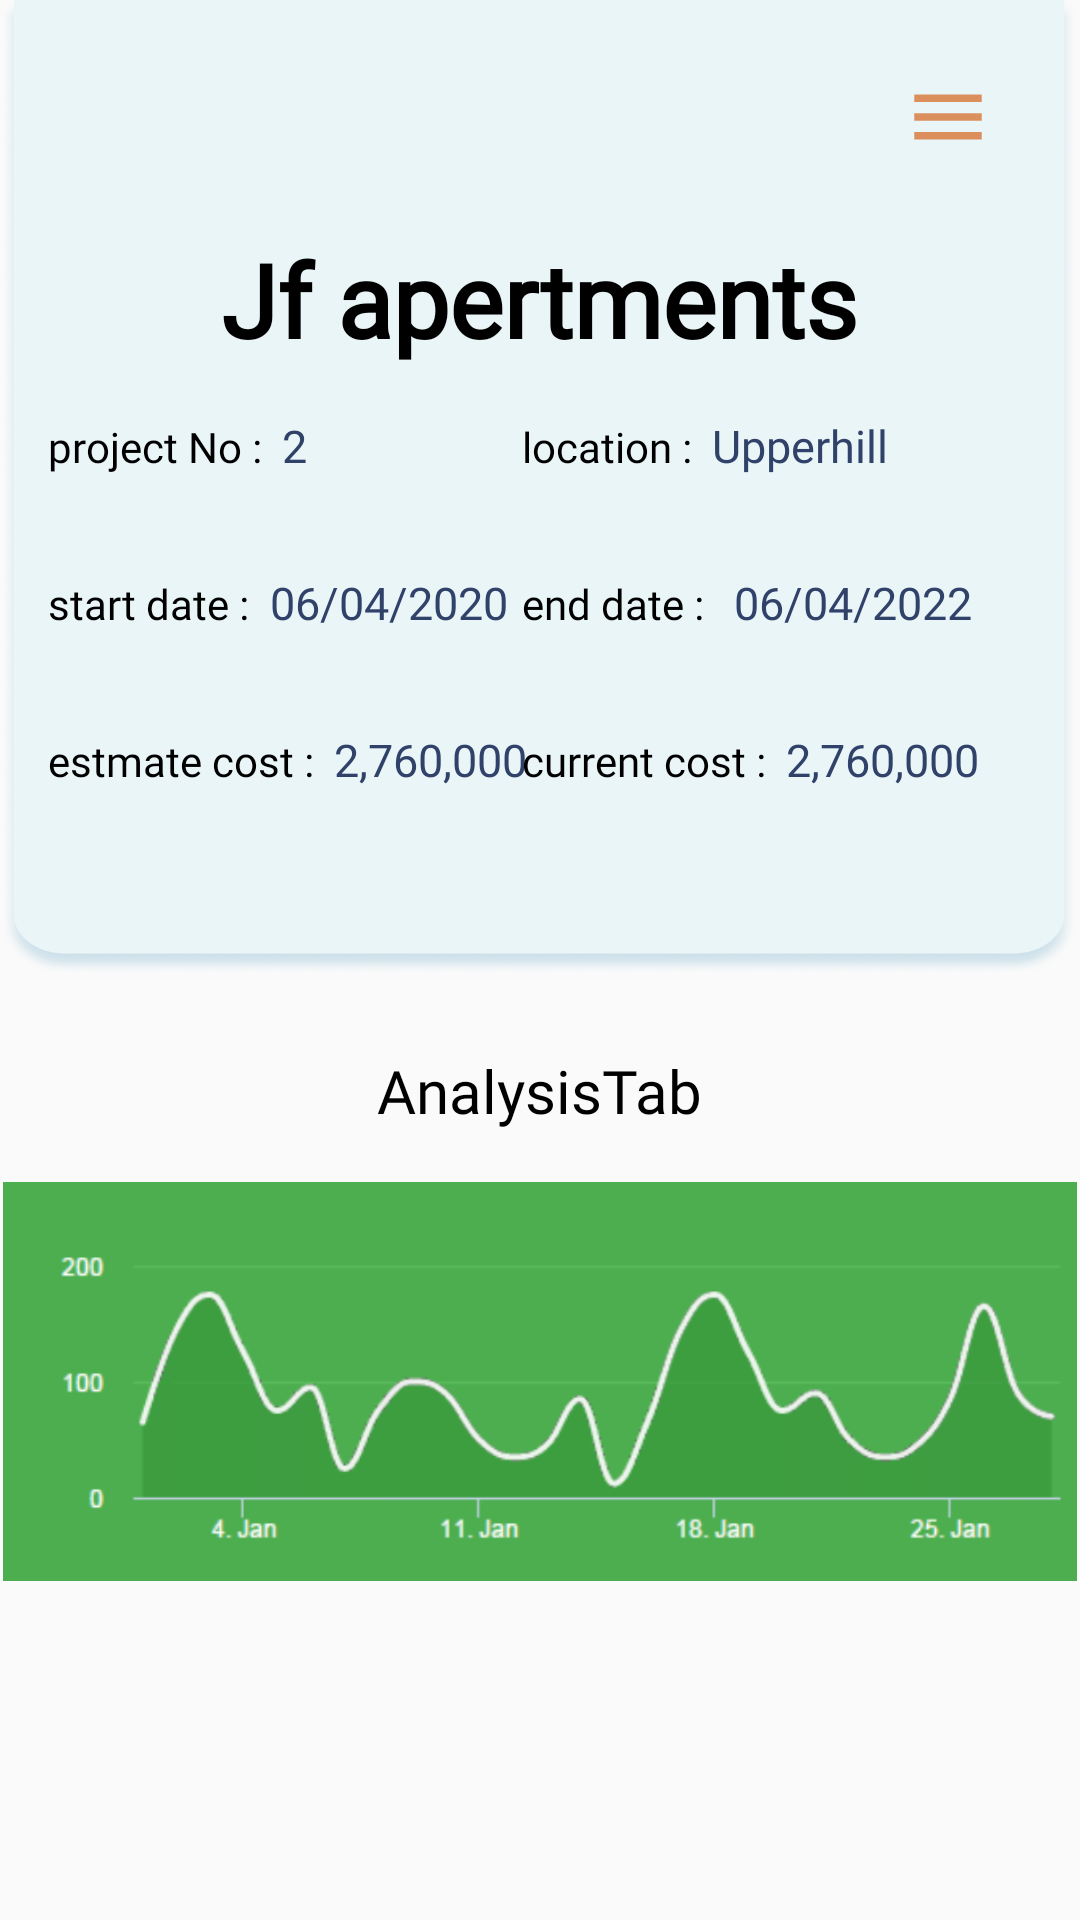

Named icons in this screenshot (1080*1920) and their centers, [x,y]:
menu: [948,117]
